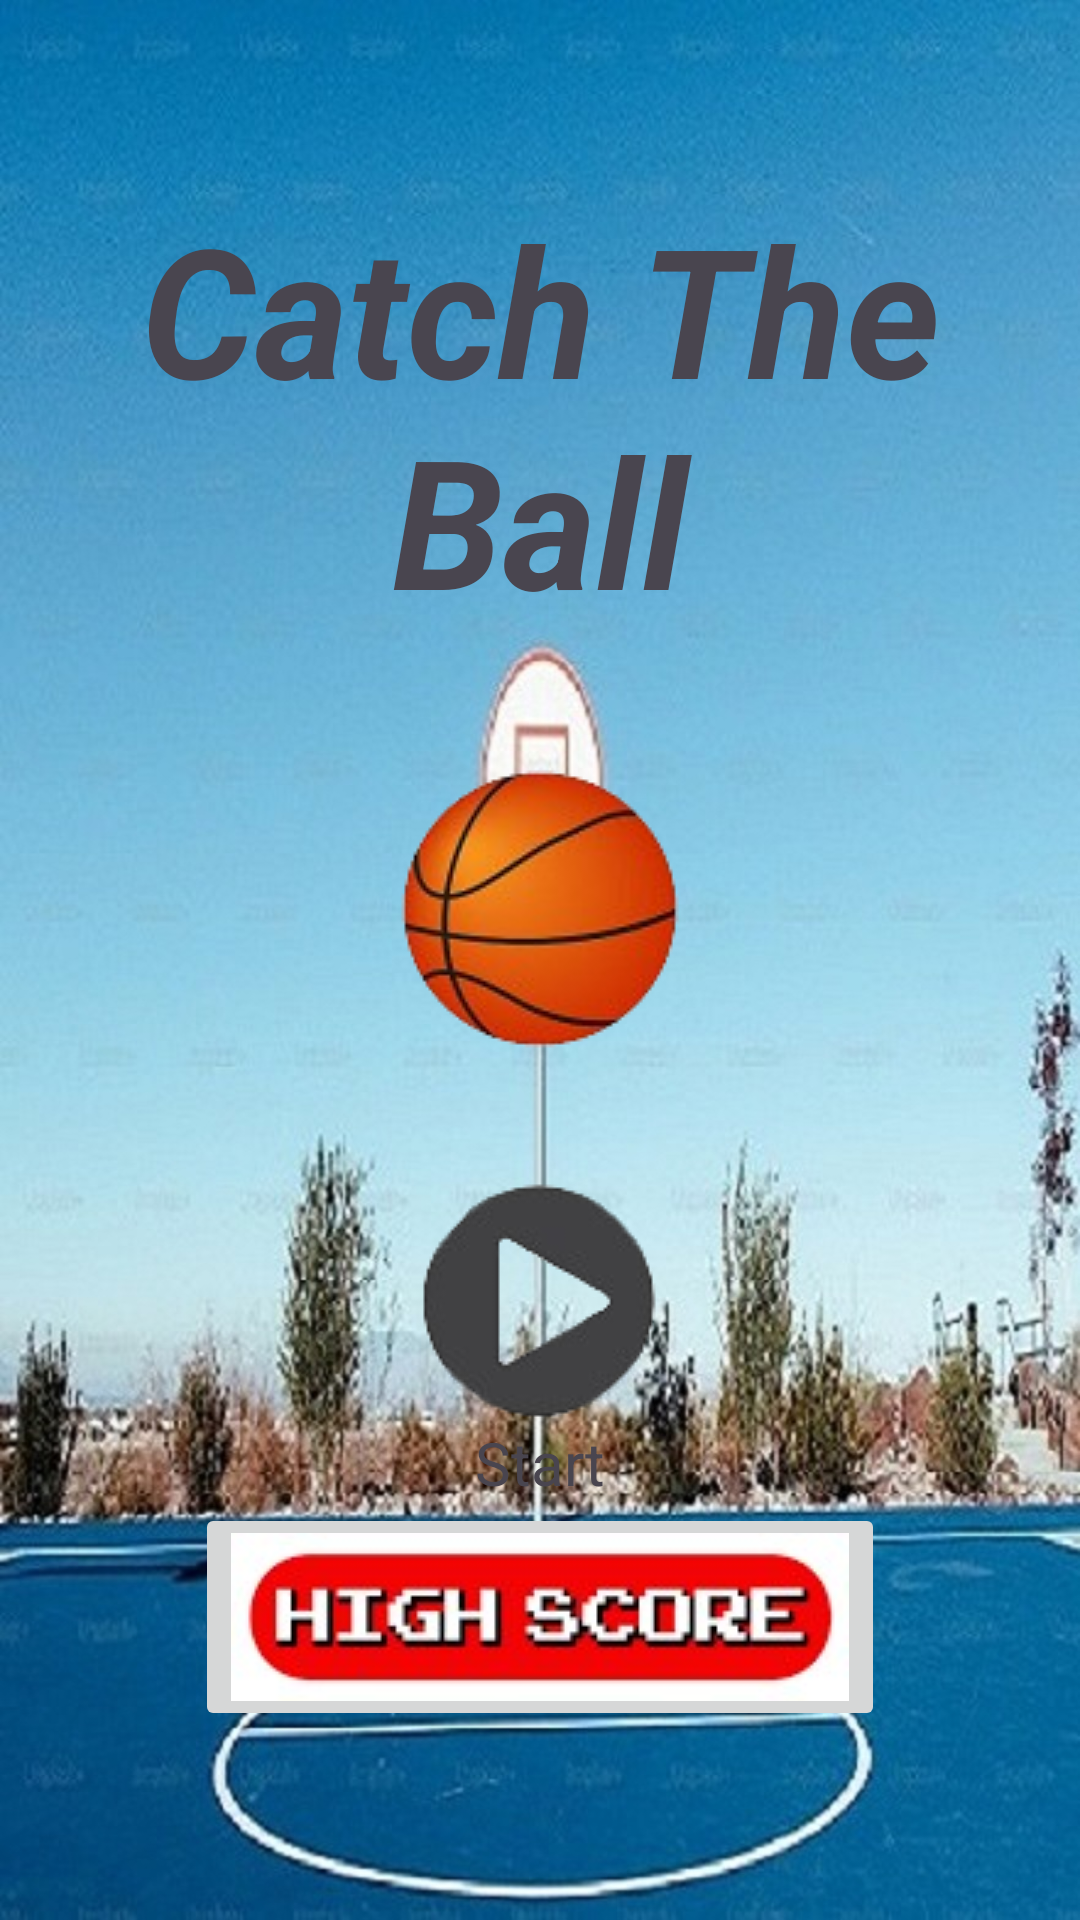

Named icons in this screenshot (1080 × 1920) and their centers, (x,y):
play: (539,1300)
